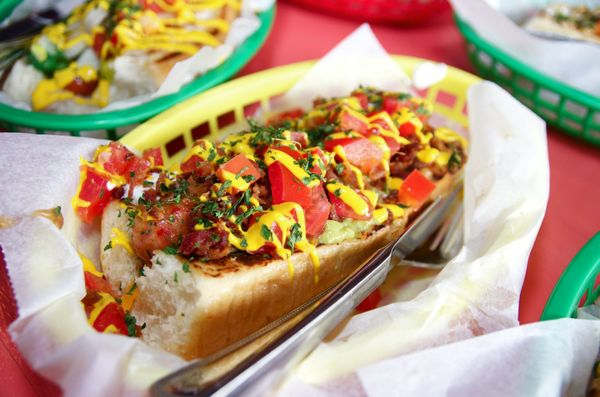sushi: (1, 1, 276, 136)
